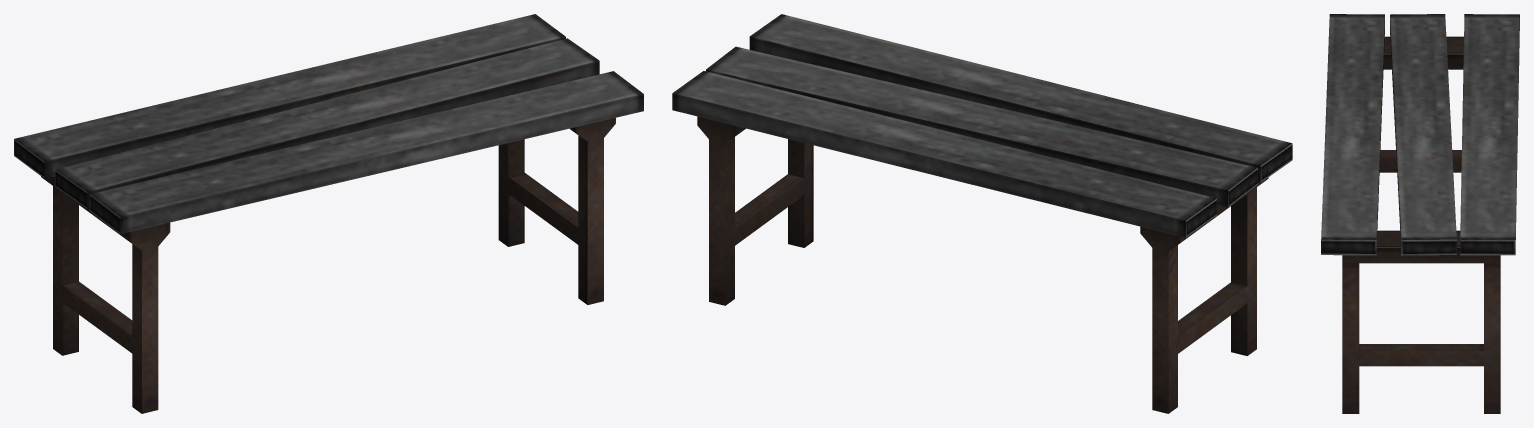
Rendered from plastic-bench_dirty.obj.
3 views of the same model, side by side, from view 1: azimuth 30°, elevation 25°; view 2: azimuth 150°, elevation 25°; view 3: azimuth 270°, elevation 25° (orthographic). The views are drawn at different scales.
Parts seen in each view (by area): view 1: plastic-bench_dirty-col; view 2: plastic-bench_dirty-col; view 3: plastic-bench_dirty-col.
Part boxes in pixels (left/top/right/bottom): plastic-bench_dirty-col: left=14, top=14, right=643, bottom=413; plastic-bench_dirty-col: left=672, top=14, right=1292, bottom=413; plastic-bench_dirty-col: left=1321, top=14, right=1519, bottom=413.
Bounding box in the file's own units: 1 × 0.385 × 0.372.
